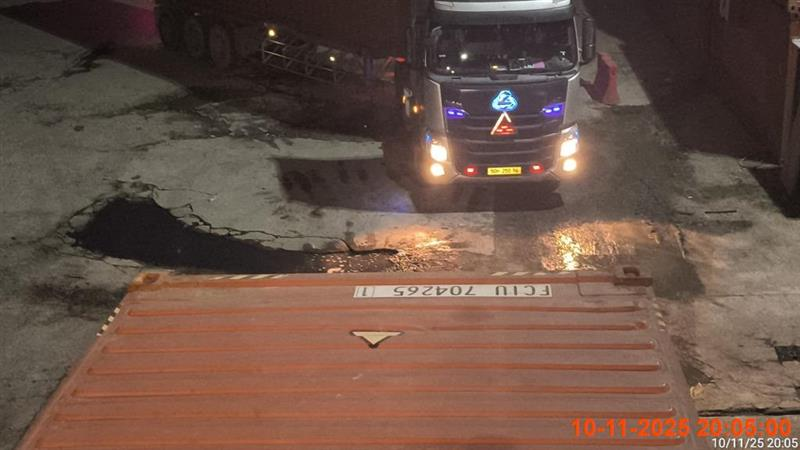broken: (152, 0, 597, 208), (383, 1, 595, 208)
